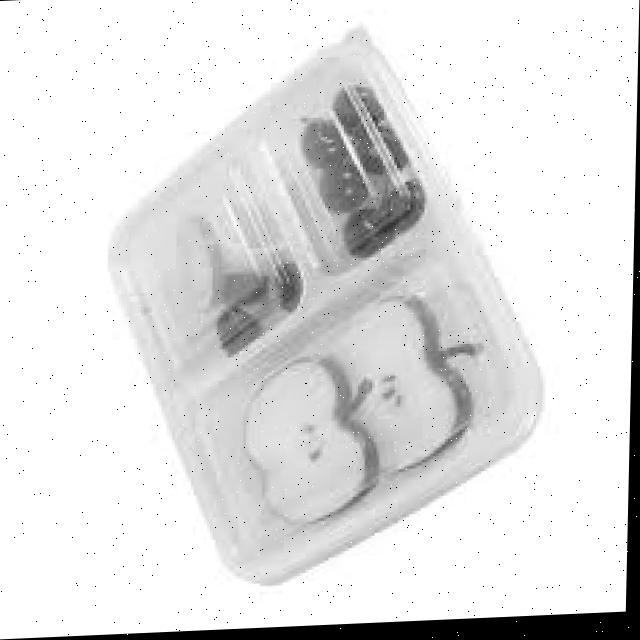disposable: (92, 0, 574, 612)
